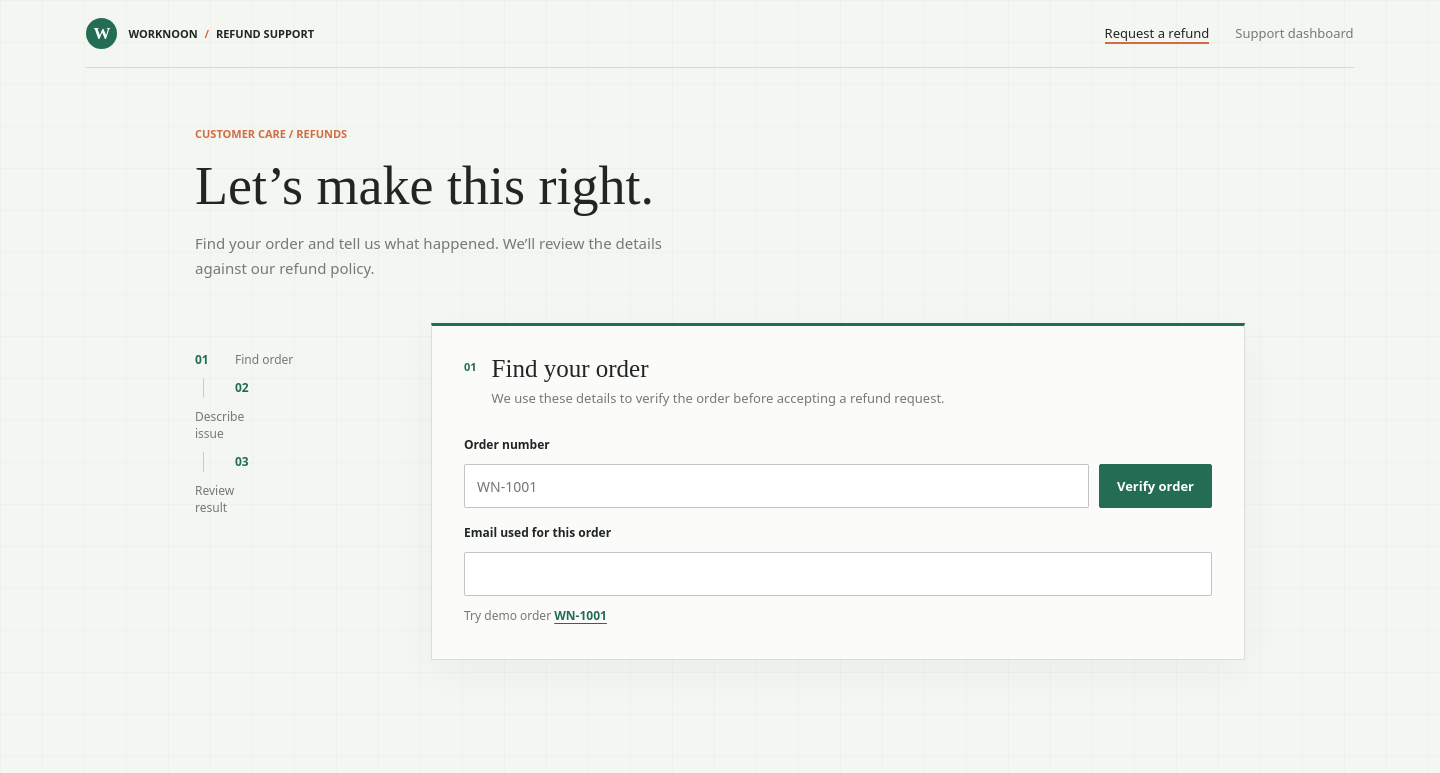
Test case: CustomerRefundFlow › warns customers when an order is final sale
Type "WN-1008" into the field labelled "Order number" at (776, 486), box [464, 464, 1089, 508]
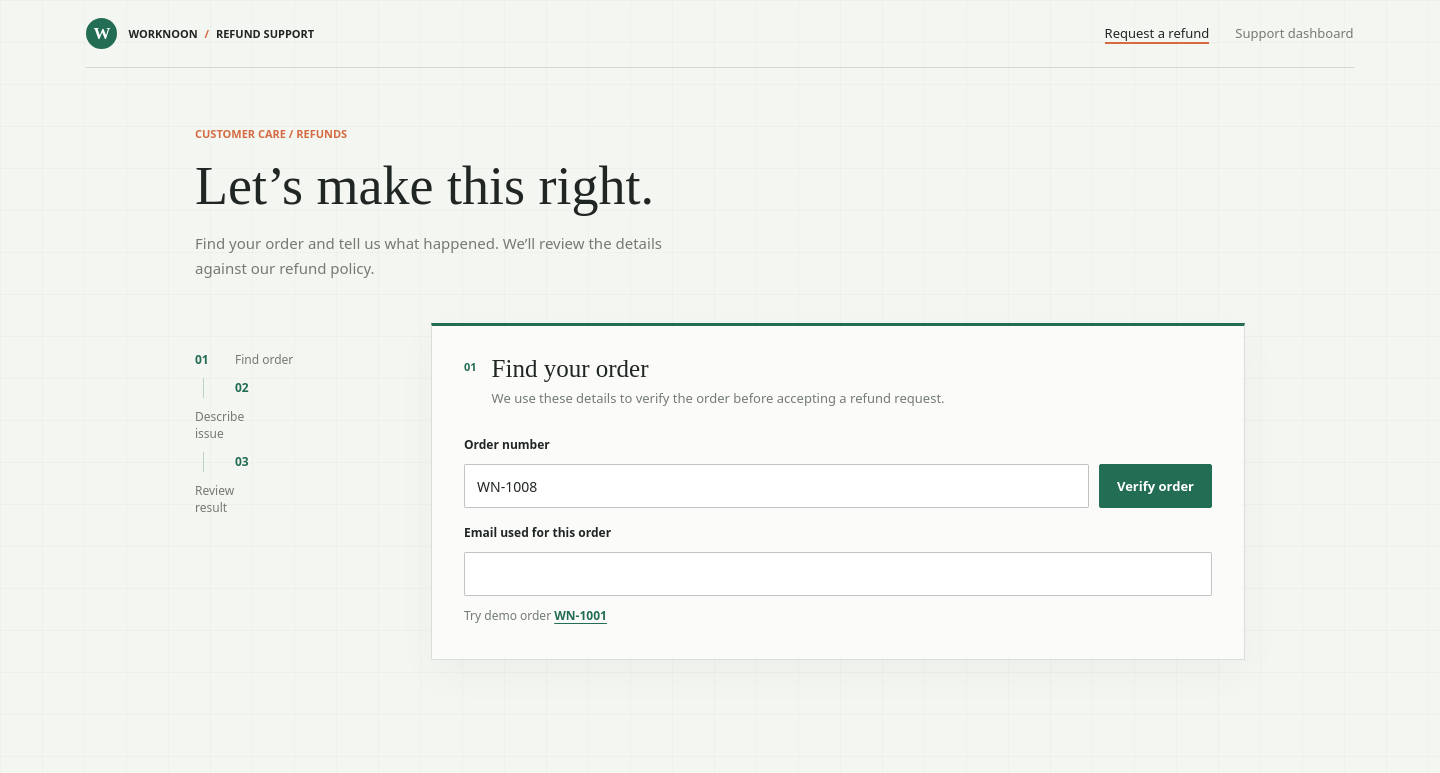
Type "jamie.hall@example.test" into the field labelled "Email used for this order" at (838, 574), box [464, 552, 1212, 596]
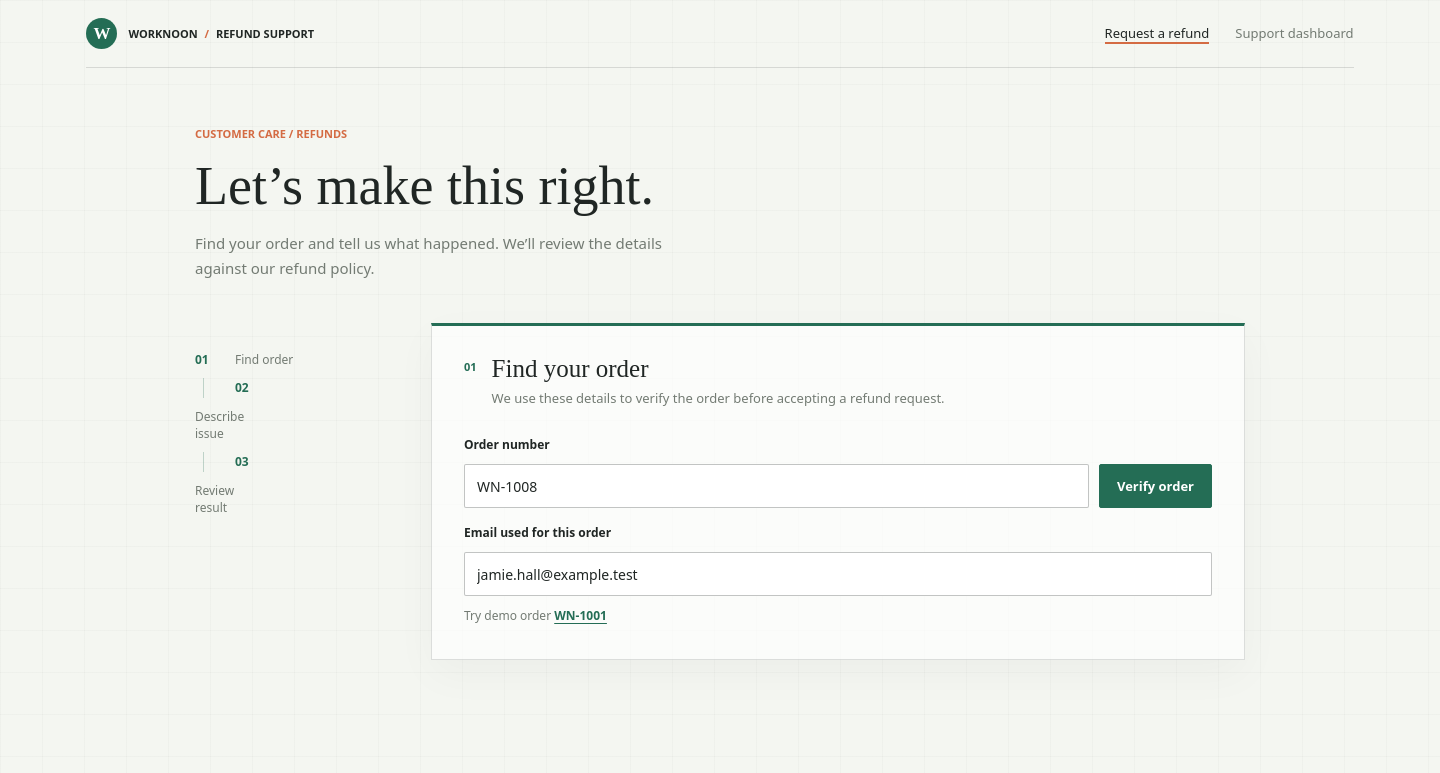
Click the button "Verify order" at (1155, 486), box [1099, 464, 1212, 508]
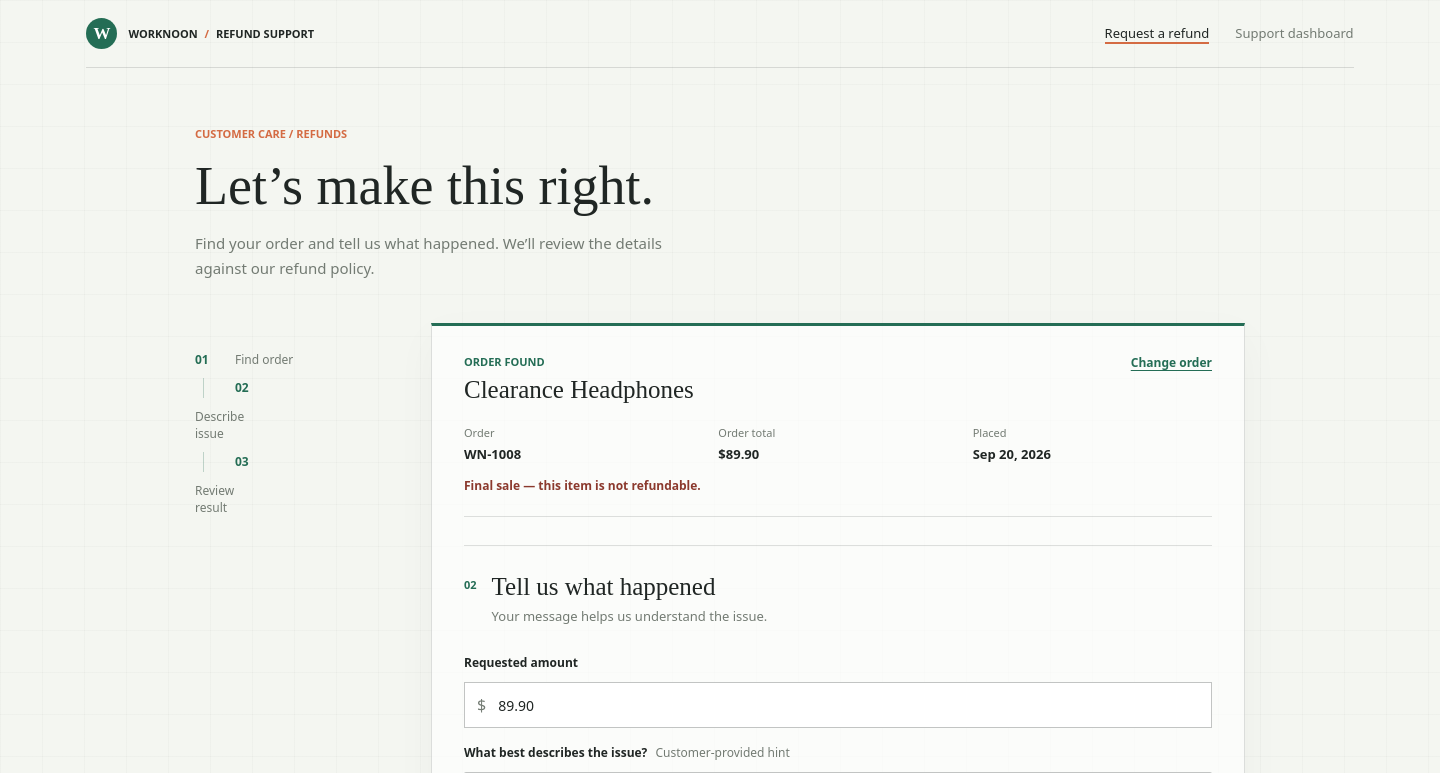
Now the heading "Clearance Headphones" is shown, box [464, 375, 694, 405]
Now the text "Final sale — this item is not refundable." is shown, box [464, 477, 701, 494]
